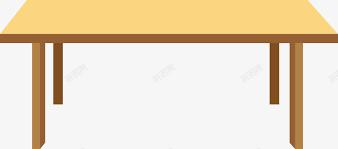desk: (3, 2, 330, 145)
